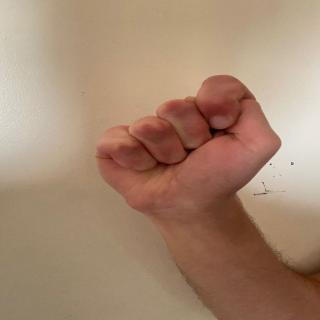FAA: (91, 67, 293, 209)
